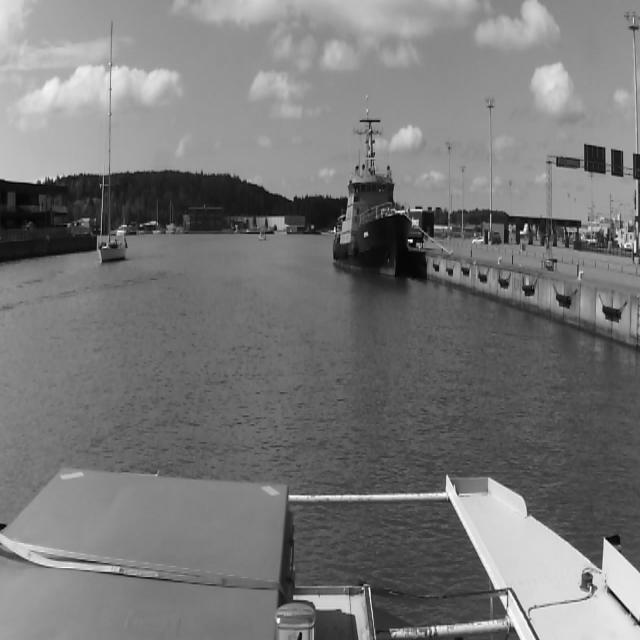ship: (334, 122, 416, 276), (96, 21, 128, 263)
